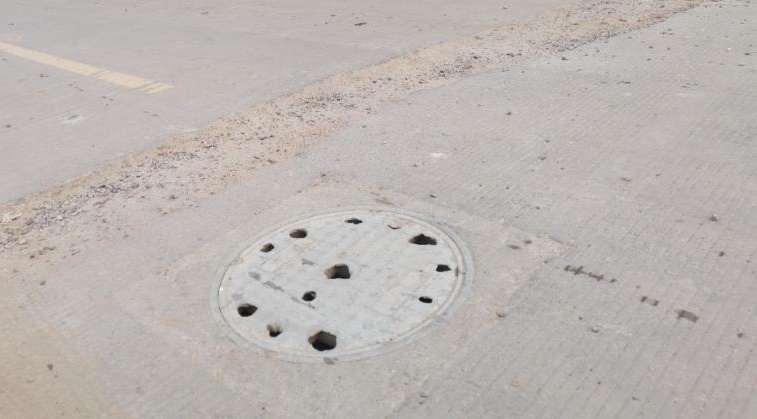broke: (210, 206, 472, 358)
